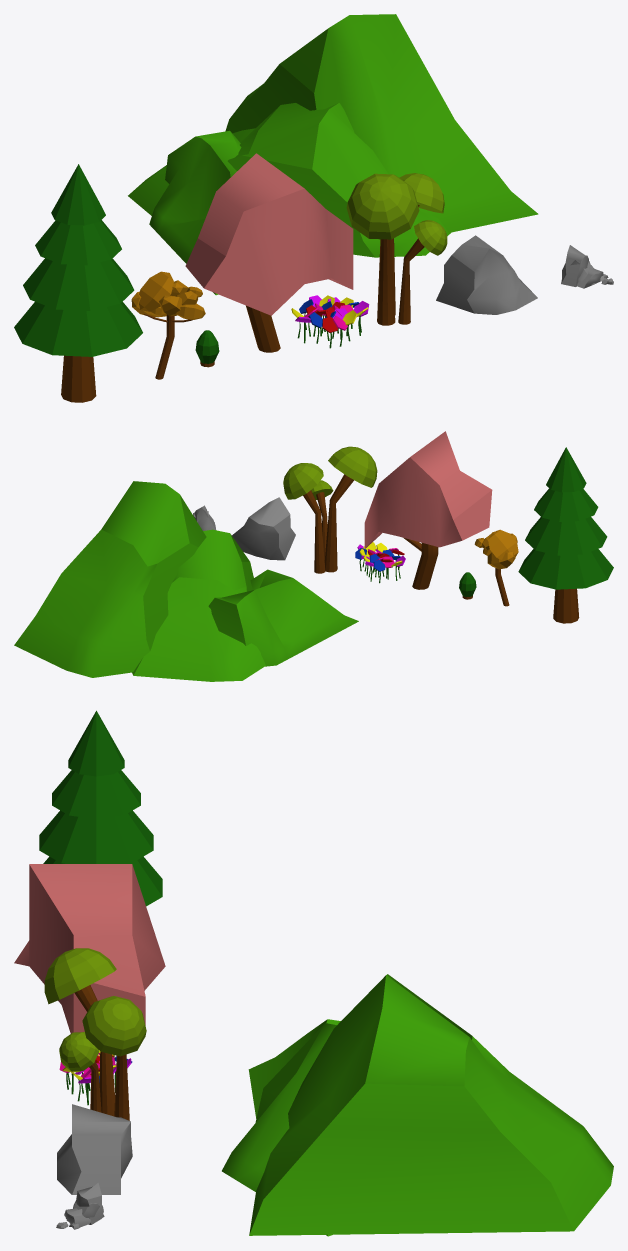
Rendered from Enviro_assets_01.fbx.
3 renders of one model, top to bottom at view 1: azimuth 30°, elevation 25°; view 2: azimuth 150°, elevation 25°; view 3: azimuth 270°, elevation 25°, orthographic. The views are drawn at different scales.
Visible parts, largest first — view 1: hill1, Tree_03, Tree_01, pCylinder4, rock1, Tree_02, flowers, rock_group, shrub1; view 2: hill1, Tree_03, Tree_01, pCylinder4, rock1, Tree_02, flowers, shrub1, rock_group; view 3: hill1, Tree_03, Tree_01, pCylinder4, rock1, rock_group, flowers.
Boxes of the visible parts, <box> form: hill1: <box>128,14,538,295</box>; Tree_03: <box>185,153,353,352</box>; Tree_01: <box>14,164,142,402</box>; pCylinder4: <box>346,173,447,325</box>; rock1: <box>436,235,537,314</box>; Tree_02: <box>131,271,205,379</box>; flowers: <box>291,295,369,348</box>; rock_group: <box>561,245,613,288</box>; shrub1: <box>195,330,219,367</box>; hill1: <box>14,481,358,681</box>; Tree_03: <box>364,431,492,589</box>; Tree_01: <box>518,447,613,623</box>; pCylinder4: <box>283,446,377,573</box>; rock1: <box>232,497,295,560</box>; Tree_02: <box>474,529,518,606</box>; flowers: <box>355,542,405,583</box>; shrub1: <box>459,572,476,599</box>; rock_group: <box>193,505,215,530</box>; hill1: <box>222,974,613,1236</box>; Tree_03: <box>14,864,165,1057</box>; Tree_01: <box>39,710,162,906</box>; pCylinder4: <box>44,948,146,1120</box>; rock1: <box>57,1104,132,1194</box>; rock_group: <box>56,1182,104,1229</box>; flowers: <box>59,1050,132,1105</box>.
Size of the model in its own units: 24.5 by 9.53 by 20.27.
